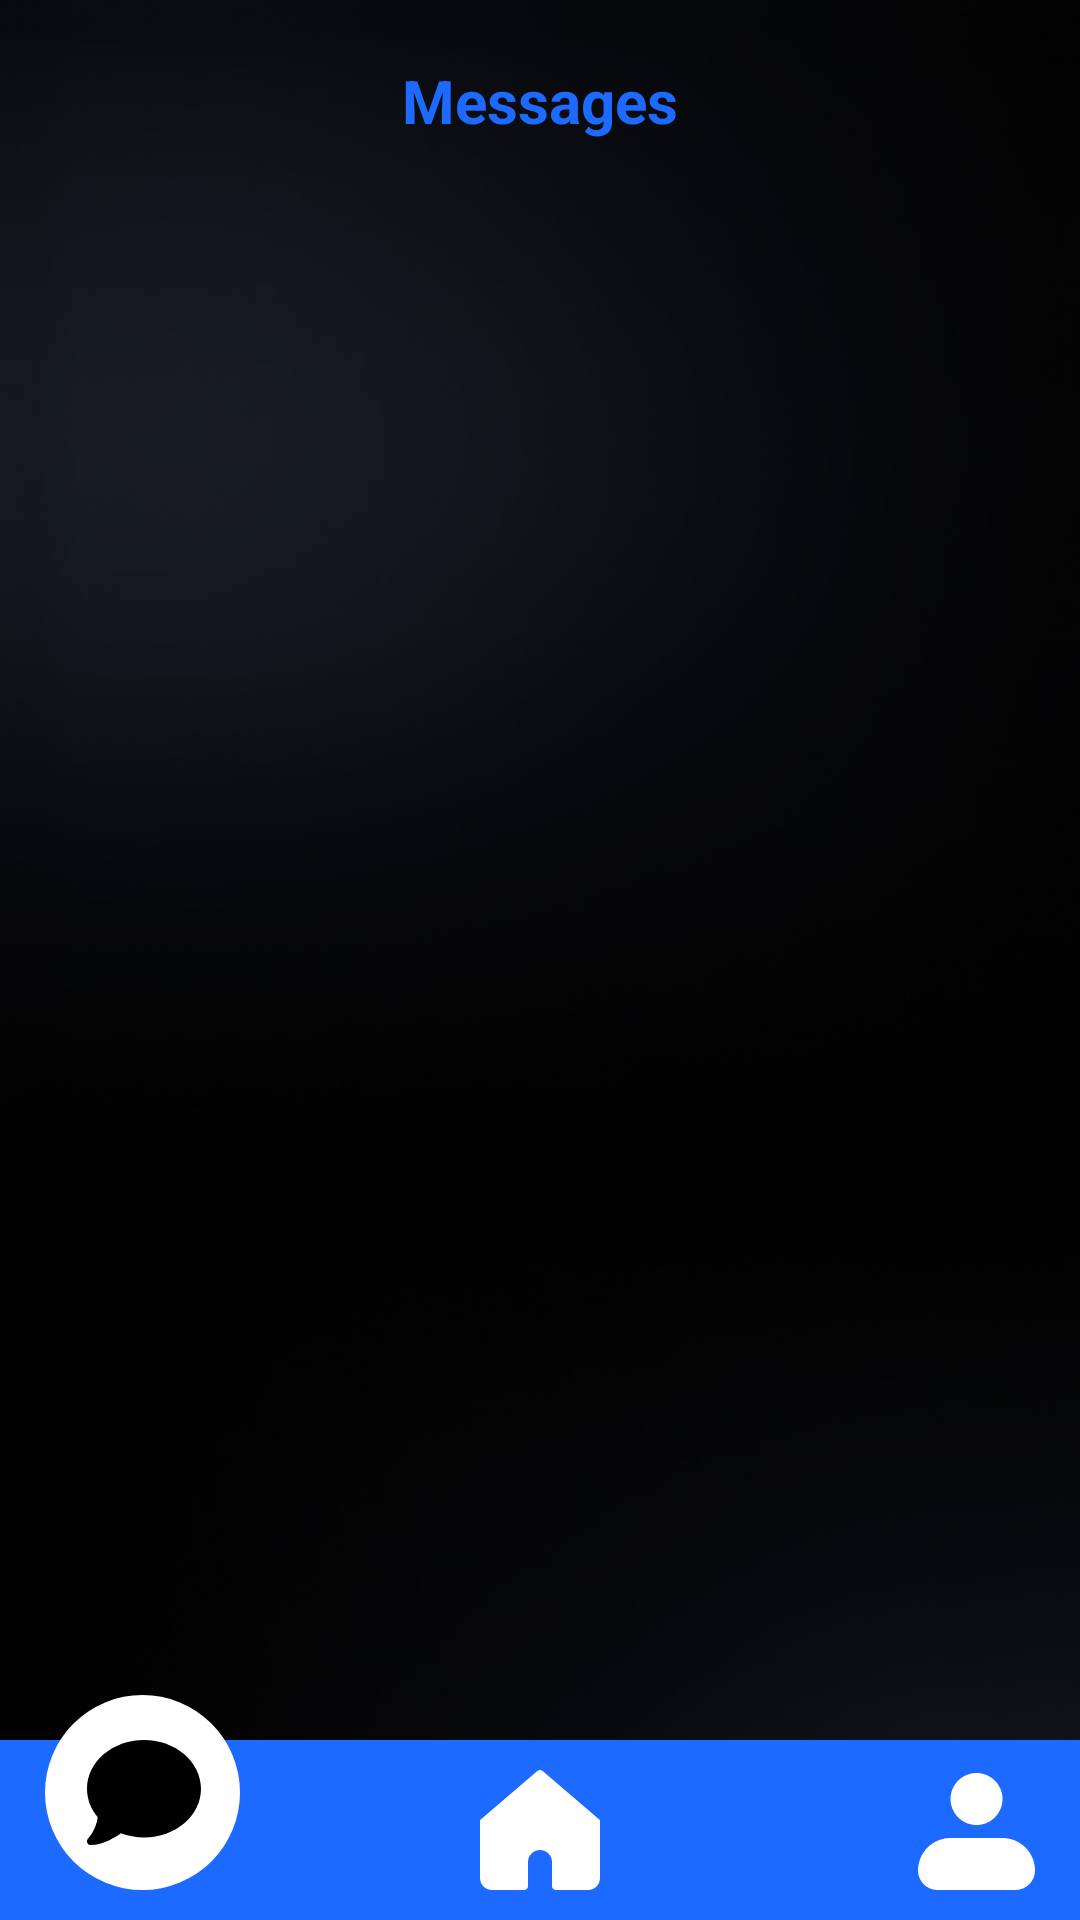

Point at icon controls on the screen. Image size 1080×1920, points as (x=x, y=y).
home: (x=540, y=1830)
message clicked: (x=142, y=1792)
person: (x=976, y=1831)
